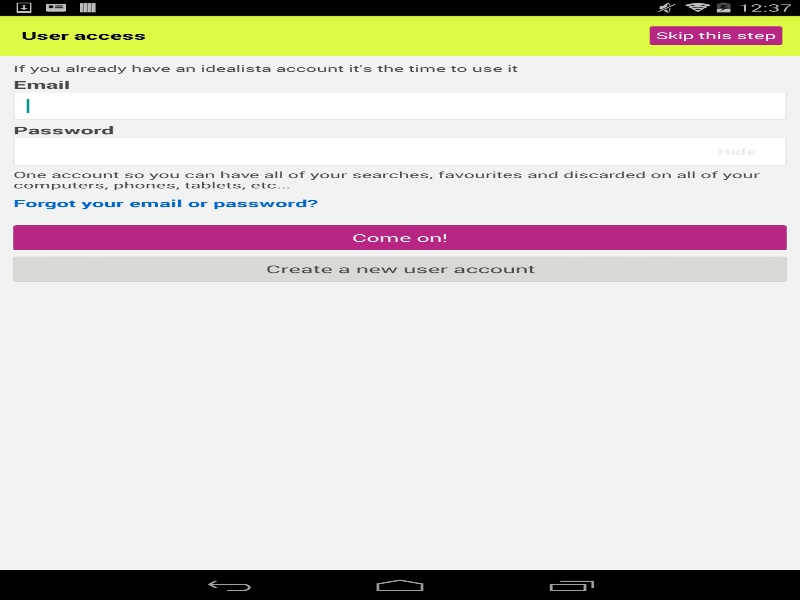Button: (13, 225, 786, 250), (13, 256, 786, 281), (642, 23, 789, 48)
Input: (13, 91, 786, 120), (33, 137, 706, 165)
